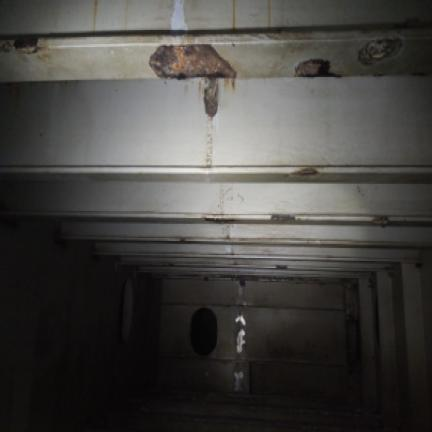besi_tidak_karat: (0, 77, 431, 242)
karat: (149, 44, 235, 77), (358, 37, 402, 64), (295, 60, 339, 76), (204, 78, 217, 117), (14, 37, 38, 53), (292, 167, 318, 174), (272, 214, 295, 221)
